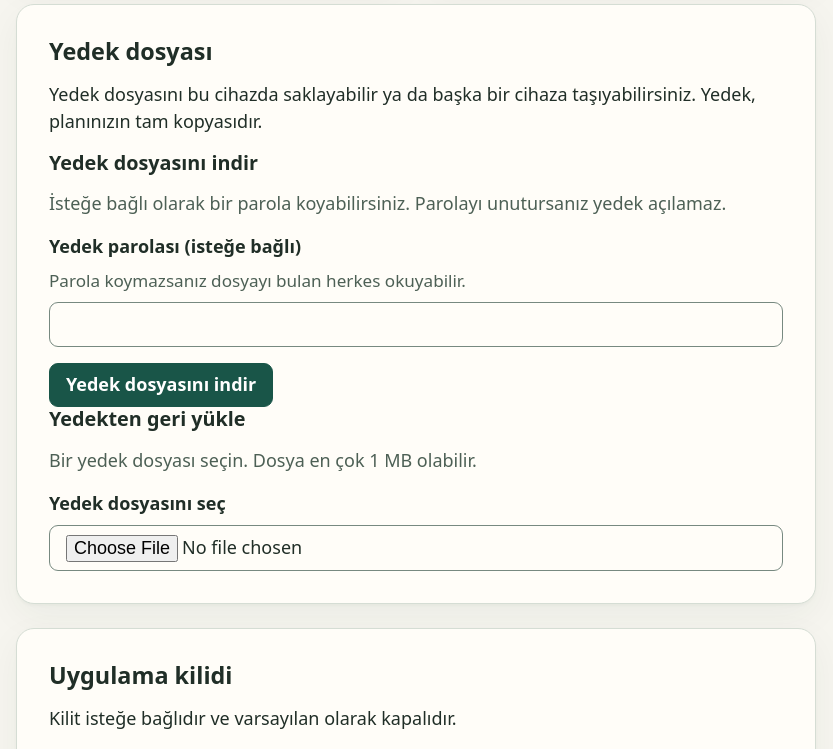
Test: Settings — yedek dışa aktarma (§9.4) › parolasız dışa aktarır
The image size is (833, 749).
(page scrolled)
Click the button "Yedek dosyasını indir" at (161, 385), box top-left (49, 363), bottom-right (273, 407)
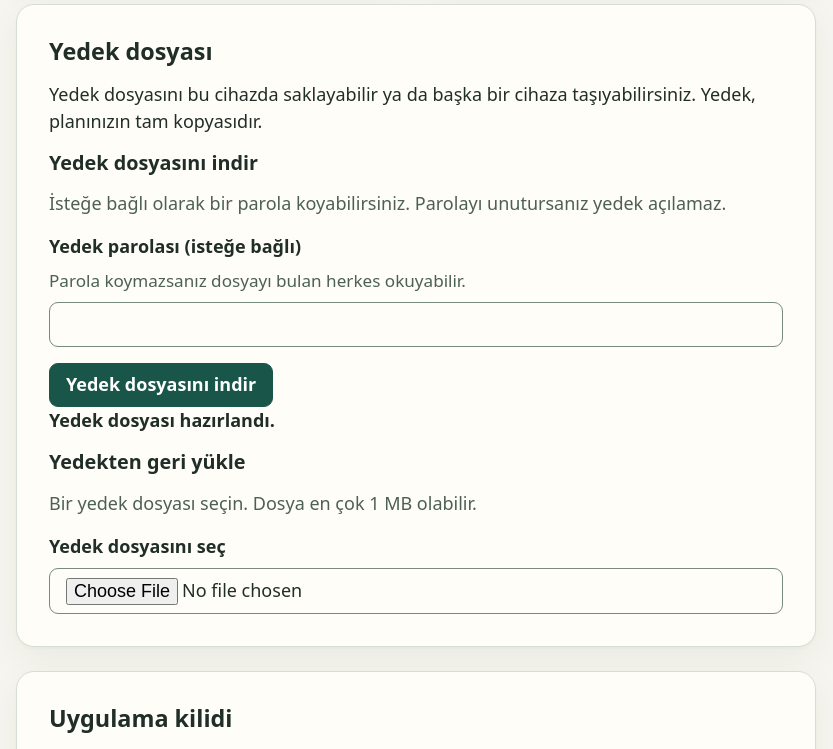
Check: the text "Yedek dosyası hazırlandı." is shown, box top-left (49, 408), bottom-right (275, 432)
